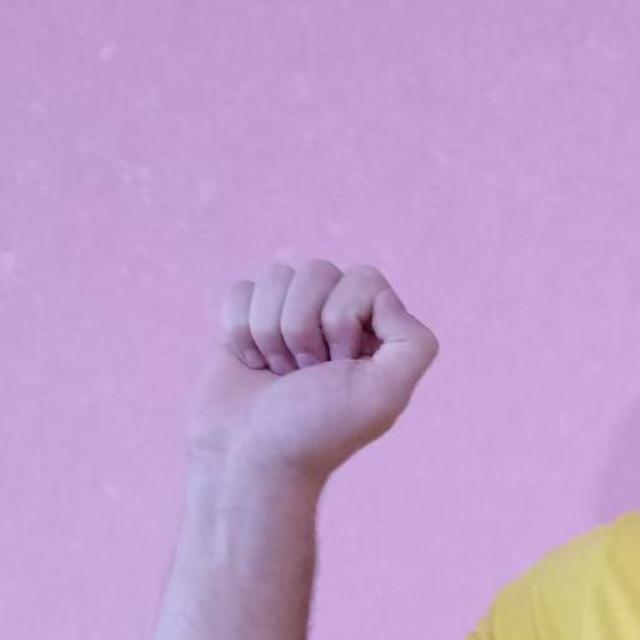hand: (185, 255, 440, 484)
